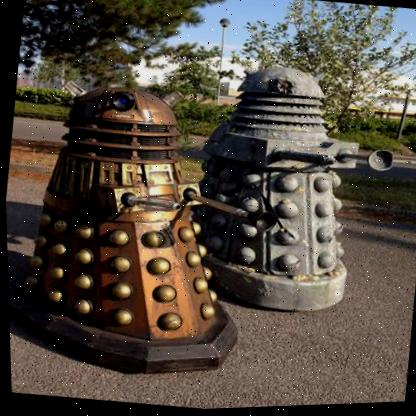dalek: (11, 49, 296, 398), (168, 20, 406, 344)
